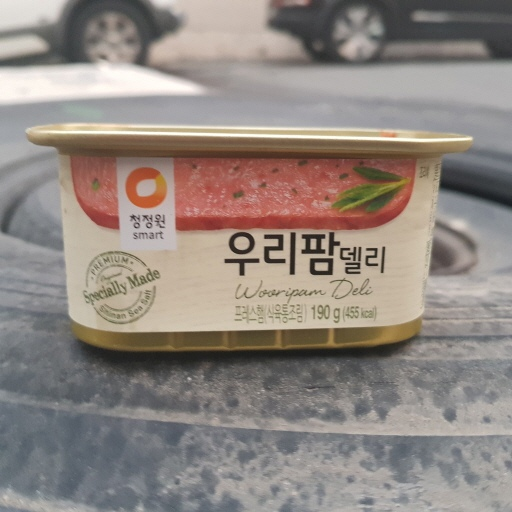Metal_2: (24, 115, 478, 352)
